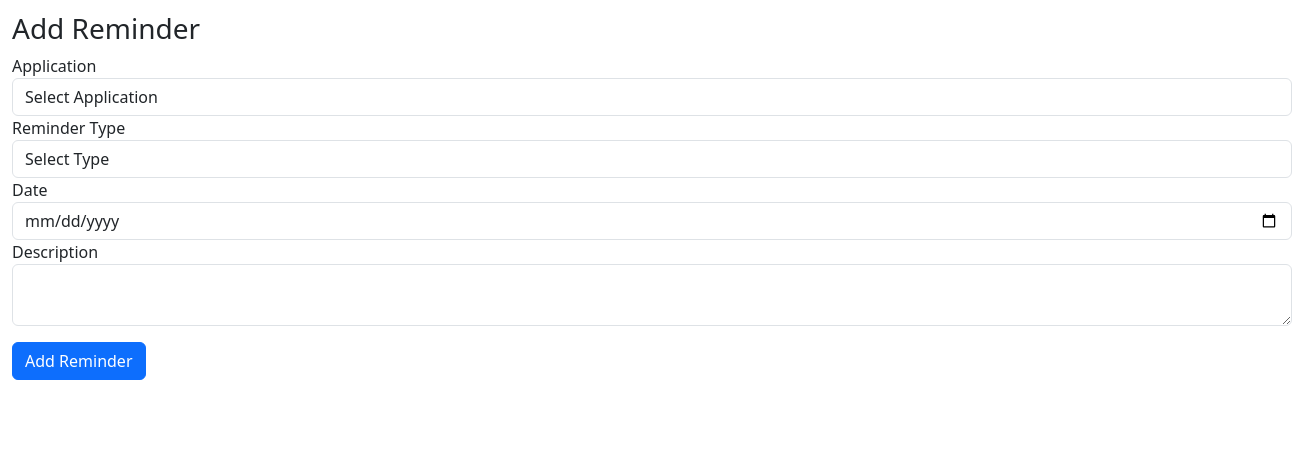
it: AddReminderForm › validates required fields
This screenshot has width=1304, height=472.
// Click submit without filling the form
Click the button "Add Reminder" at (79, 361), box x1=12 y1=342 x2=146 y2=380
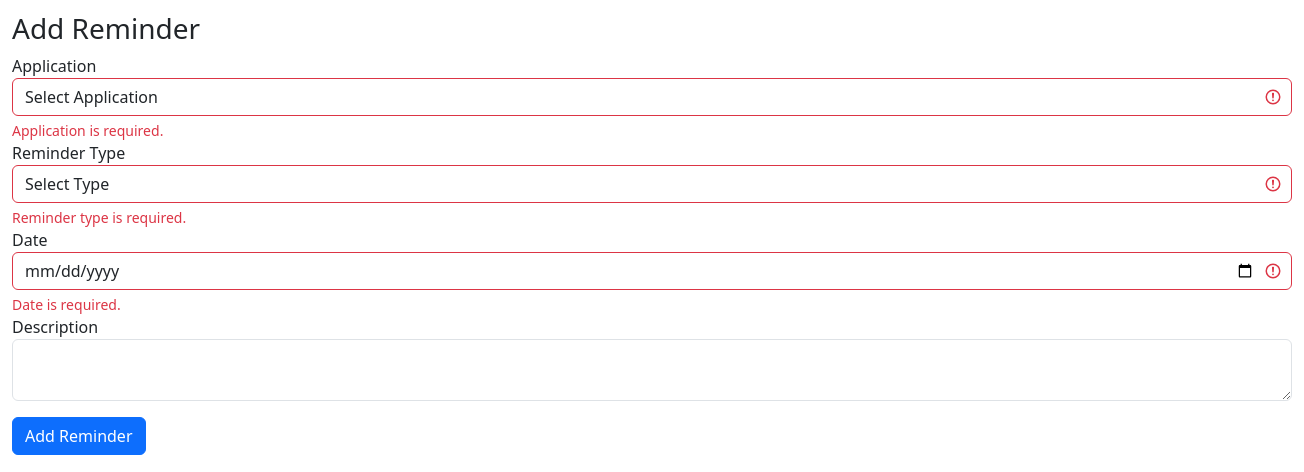
Expected: the text "Application is required." is shown, x1=12 y1=121 x2=163 y2=140
Expected: the text "Reminder type is required." is shown, x1=12 y1=208 x2=186 y2=227
Expected: the text "Date is required." is shown, x1=12 y1=295 x2=121 y2=314
